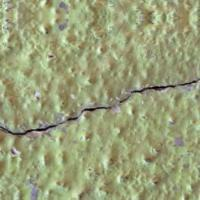crack: (1, 65, 199, 155)
